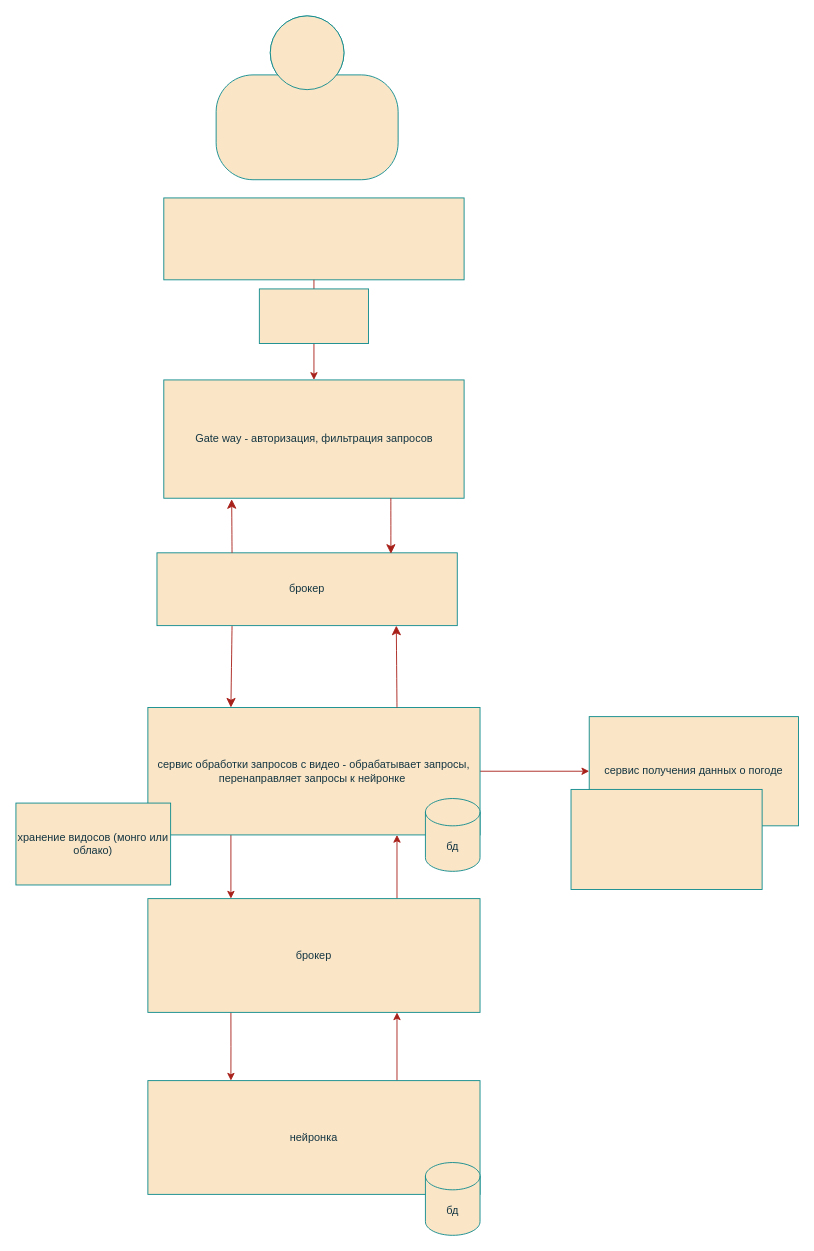
Image size: 814x1251. Some labels were removed from this diagram. The box of each missing label's shape, as (x1, y1, x2, y2) in pixels:
Vlad Plotnikov [User] Student: (215, 15, 398, 180)
web socket + rest: (258, 288, 369, 344)
если успеем - кеширование: (570, 789, 762, 890)
Фронт: (163, 197, 464, 280)
